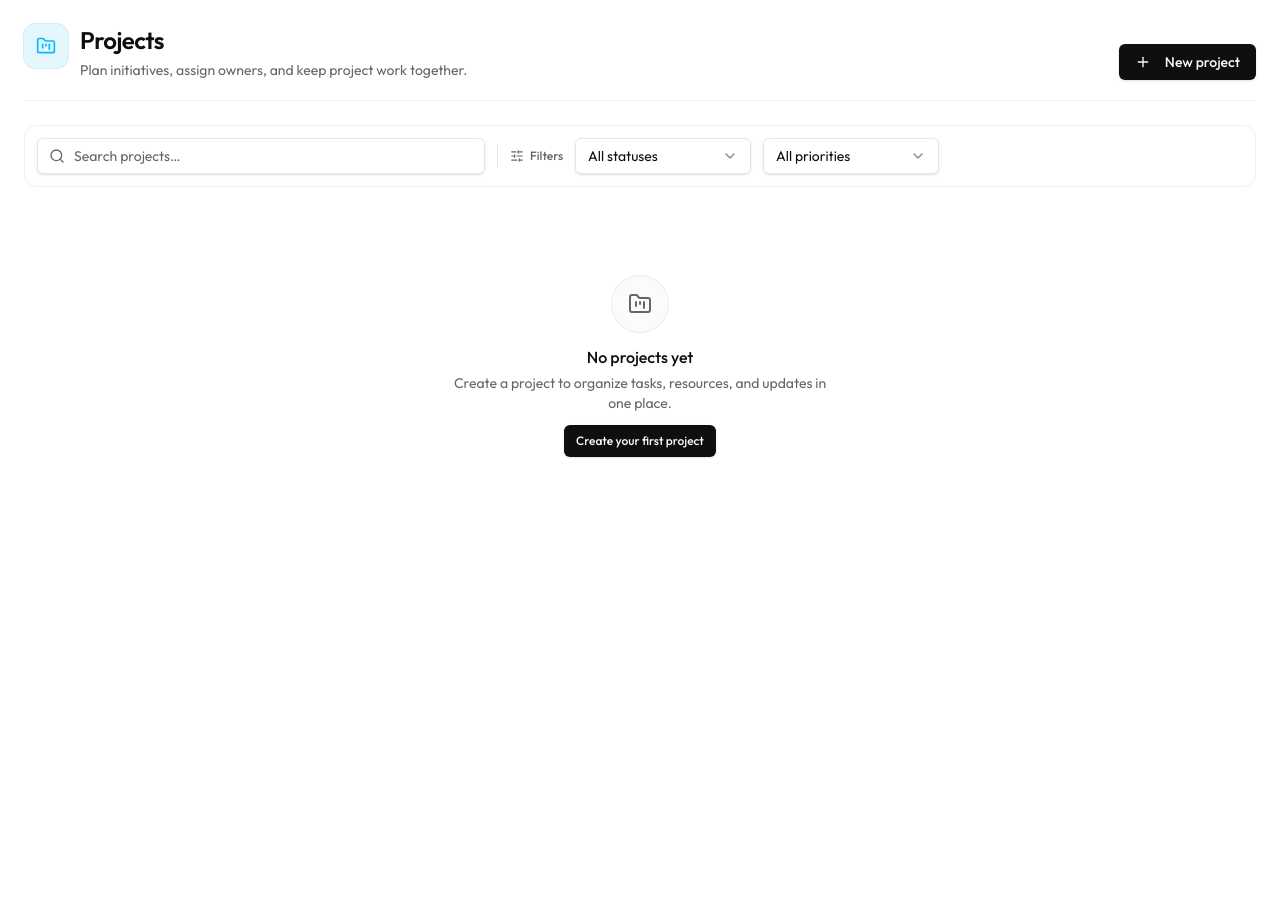
Test: ProjectsPage › opens the create project dialog
What coordinates should you click on to do the following:
click the button "New project"
I would click on:
 (1187, 62)
Its box is left=1119, top=44, right=1256, bottom=80.
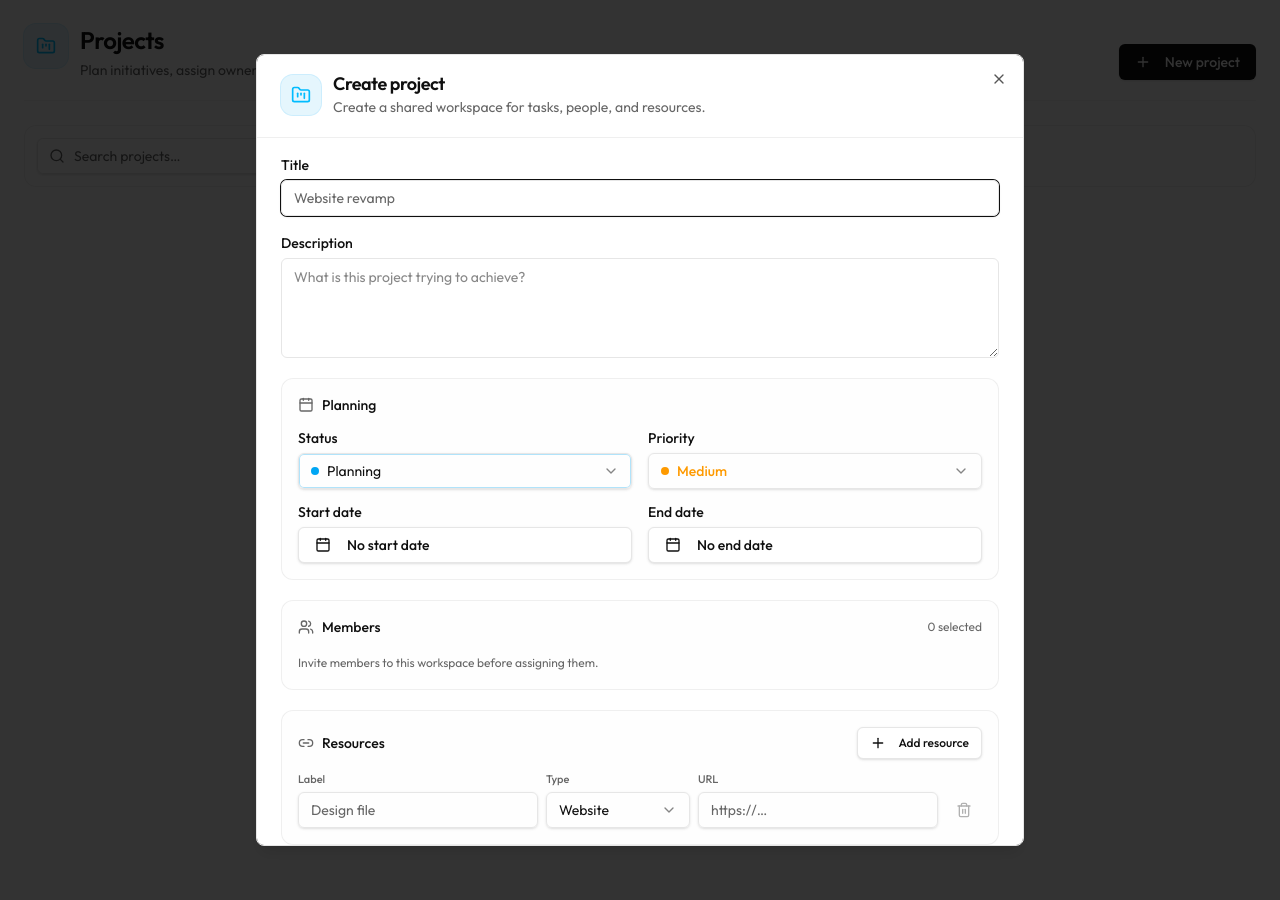
Expected: the heading "Create project" is shown, left=333, top=72, right=445, bottom=95
Expected: the field labelled "Title" is empty, left=281, top=180, right=999, bottom=216
